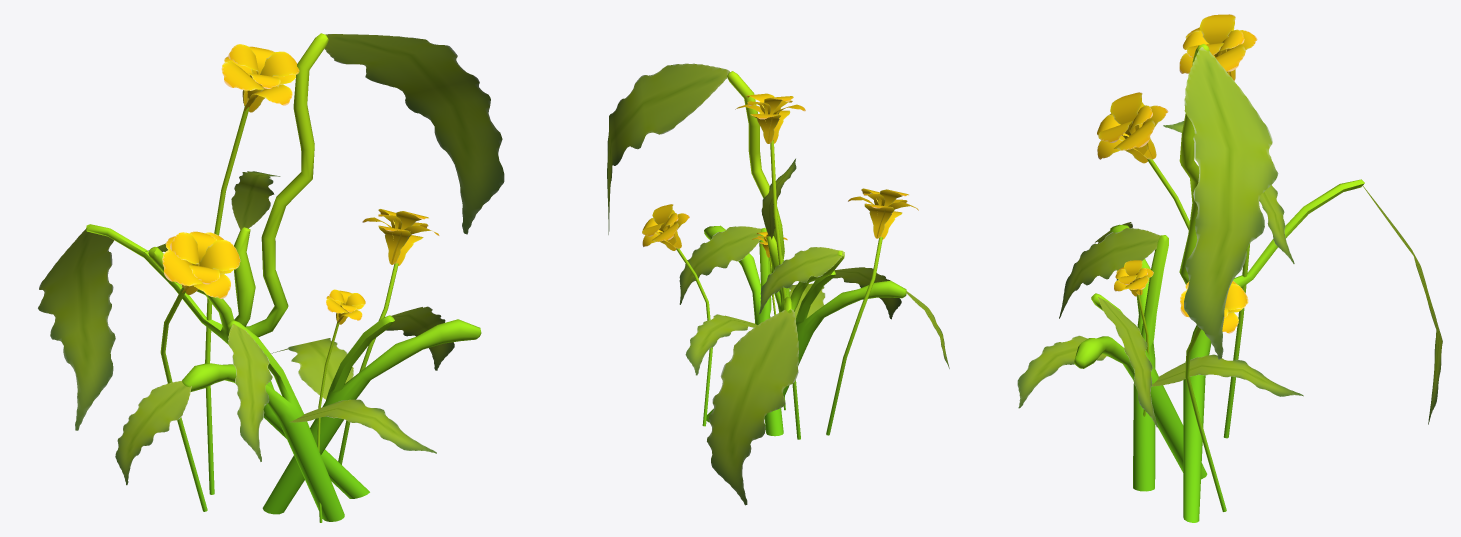
File: plant10.fbx
3 renders of one model, left to right at view 1: azimuth 30°, elevation 25°; view 2: azimuth 150°, elevation 25°; view 3: azimuth 270°, elevation 25°, orthographic. The views are drawn at different scales.
Visible parts, largest first — view 1: plant10; view 2: plant10; view 3: plant10.
Boxes of the visible parts, bbox=[...] form: plant10: bbox=[38, 33, 504, 522]; plant10: bbox=[607, 63, 949, 505]; plant10: bbox=[1017, 14, 1442, 522].
Size of the model in its own units: 219 by 228 by 192.
